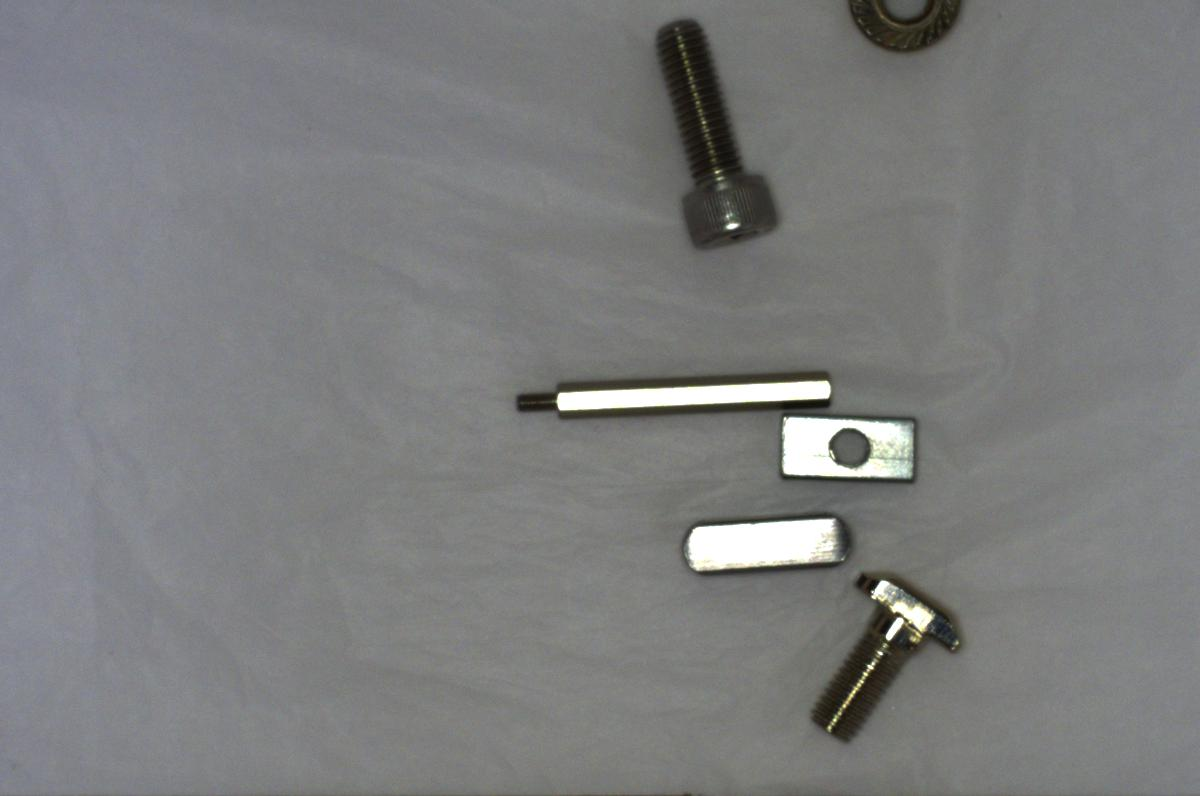Flange nut: (837, 3, 974, 59)
Hexagon screw: (647, 8, 783, 263)
Hexagonal steel column: (506, 365, 839, 431)
Keybar: (664, 508, 865, 581)
Rectangular nut: (775, 404, 926, 495)
T-shaped screw: (810, 555, 973, 745)
